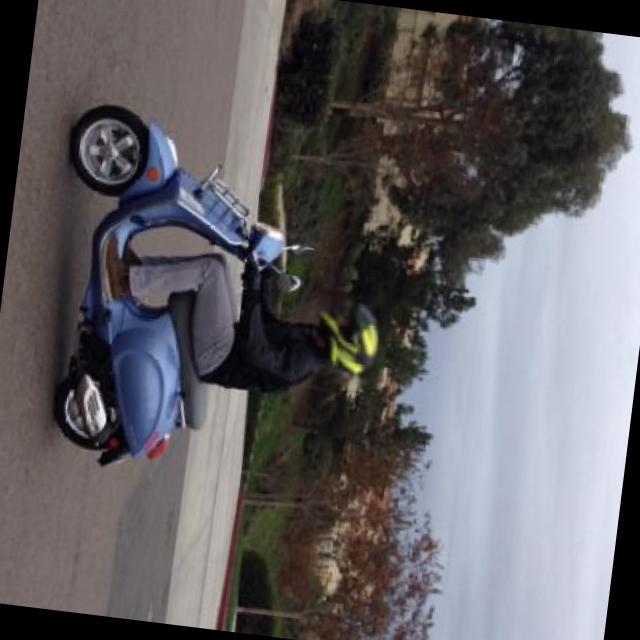With Helmet: (303, 286, 392, 389)
